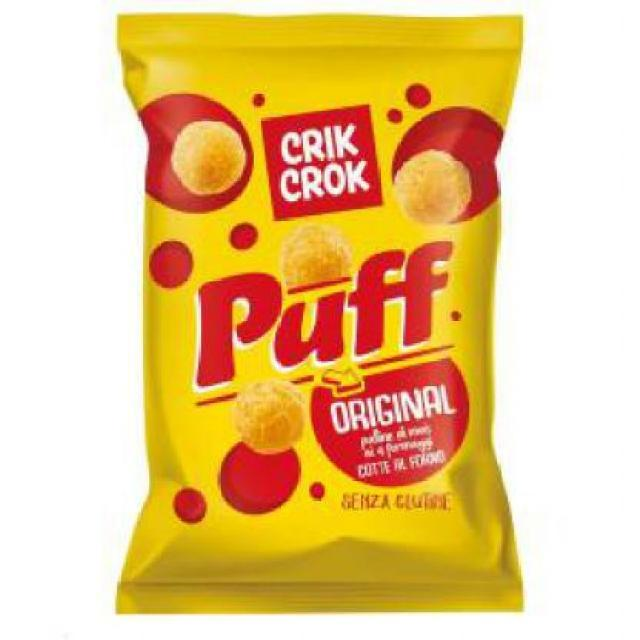Chips: (98, 6, 542, 608)
